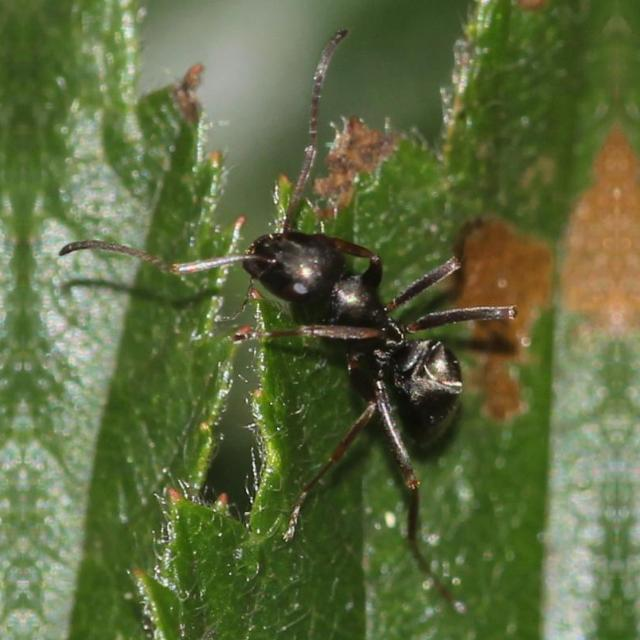Formica: (190, 153, 528, 519)
